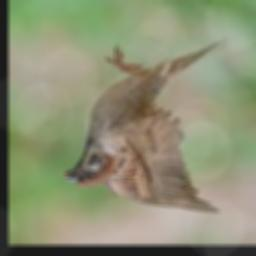Sparrow: (60, 38, 229, 212)
